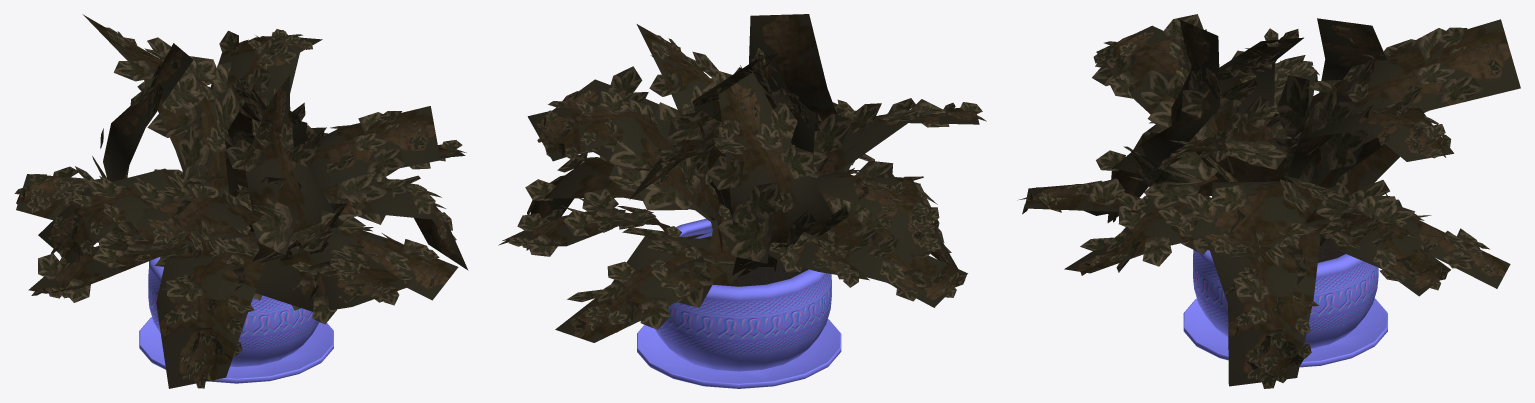
File: SM_PlantF.fbx
3 views of the same model, side by side, from view 1: azimuth 30°, elevation 25°; view 2: azimuth 150°, elevation 25°; view 3: azimuth 270°, elevation 25° (orthographic). The views are drawn at different scales.
Visible parts, largest first — view 1: SM_PlantF; view 2: SM_PlantF; view 3: SM_PlantF.
Part boxes in pixels (bbox=[...]): SM_PlantF: bbox=[14, 14, 468, 388]; SM_PlantF: bbox=[498, 14, 986, 388]; SM_PlantF: bbox=[1017, 14, 1520, 388].
Bounding box in the file's own units: 92.12 × 61.98 × 91.45.
Materials: 2 (2 with a texture image).
